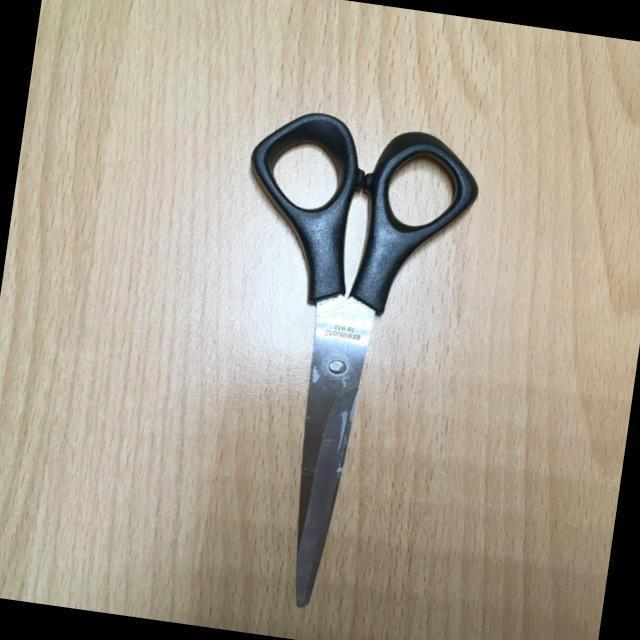scissors: (185, 104, 486, 626)
